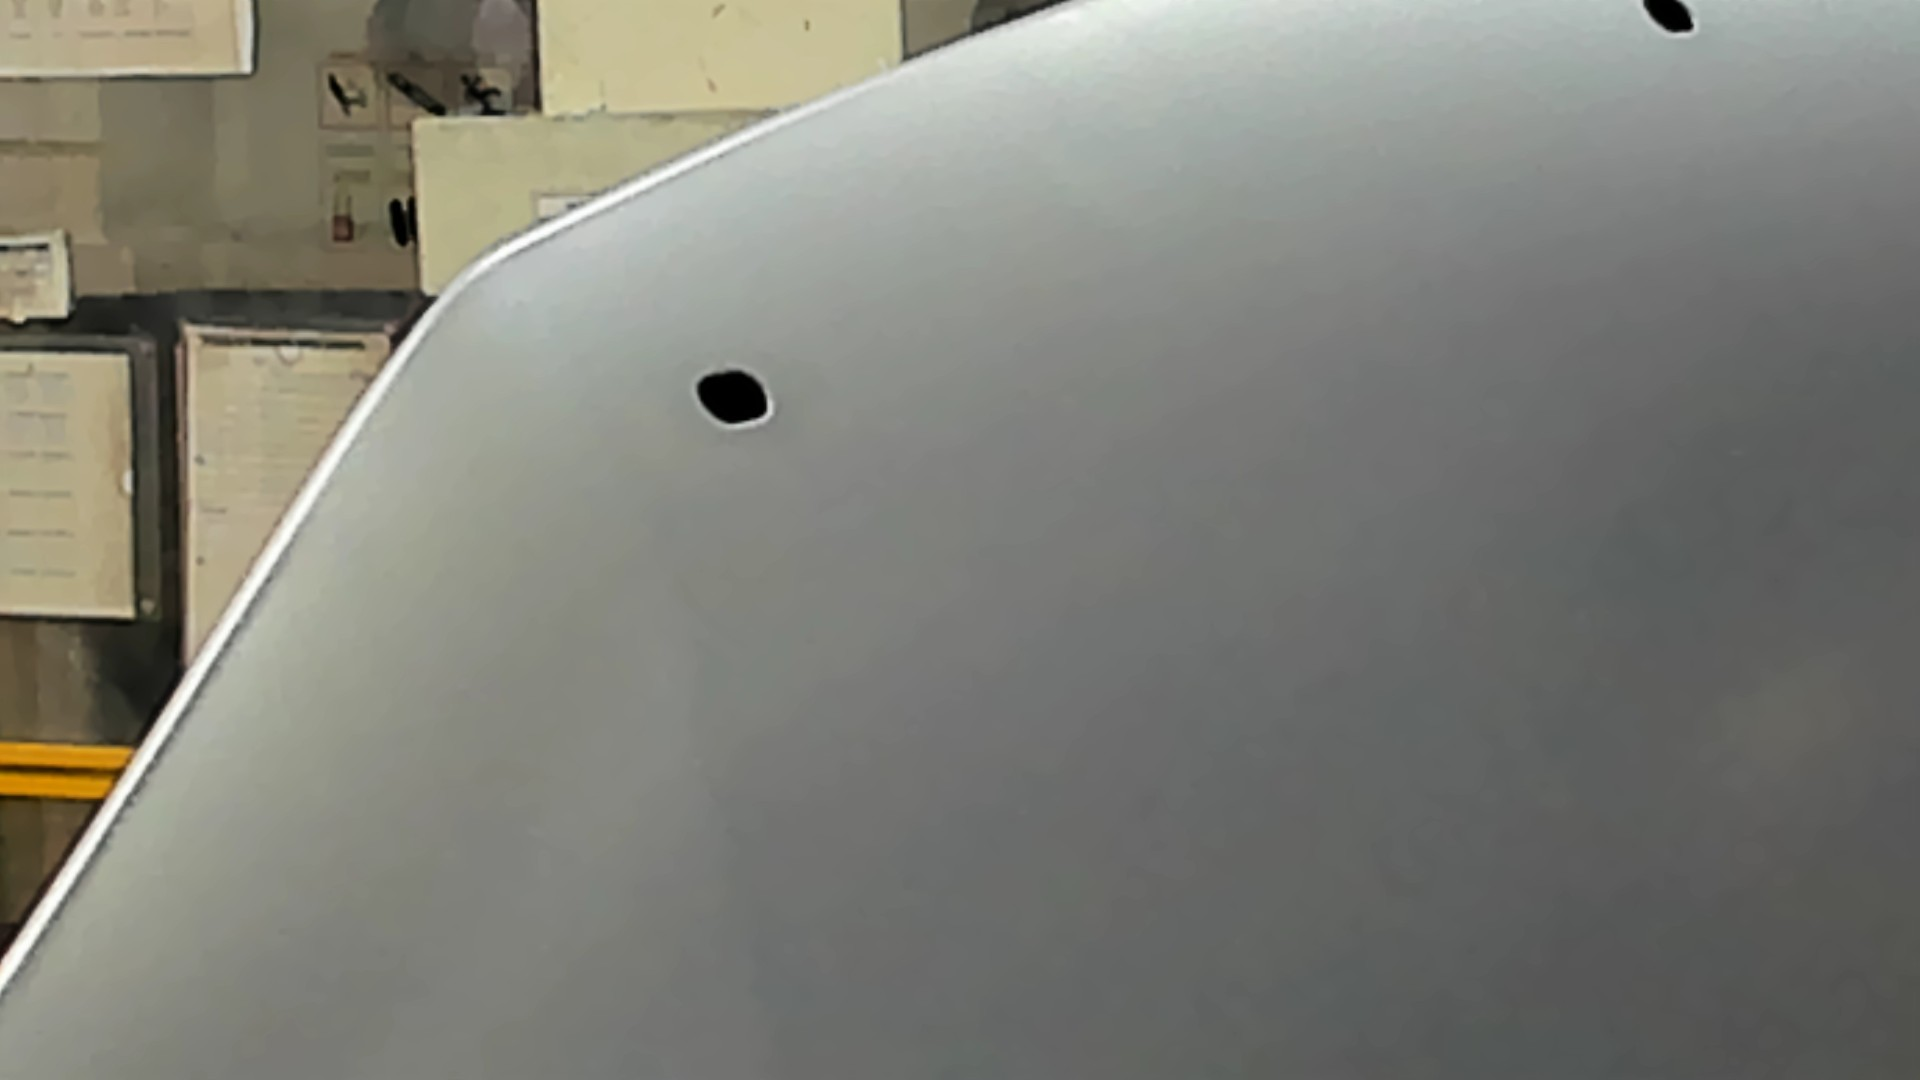amorfo: (688, 361, 779, 436), (1630, 1, 1700, 45)
